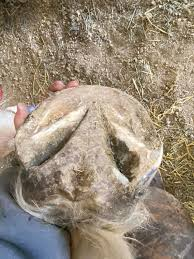horsesole: (14, 85, 164, 174)
